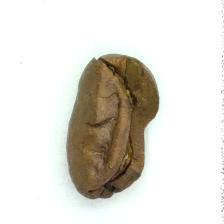NG: (89, 58, 159, 193)
